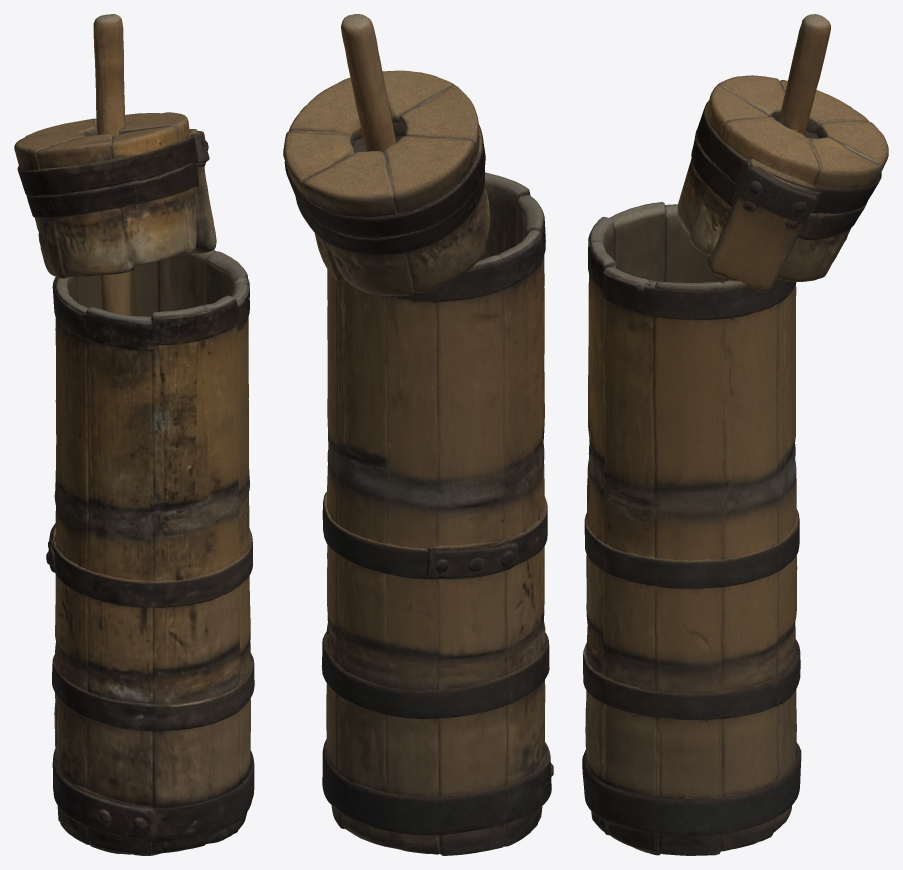
File: mlatilica.glb
3 renders of one model, left to right at view 1: azimuth 30°, elevation 25°; view 2: azimuth 150°, elevation 25°; view 3: azimuth 270°, elevation 25°, orthographic. The views are drawn at different scales.
Bounding box in the file's own units: 0.4709 × 1.9 × 0.6546.
Materials: 1 (1 with a texture image).
